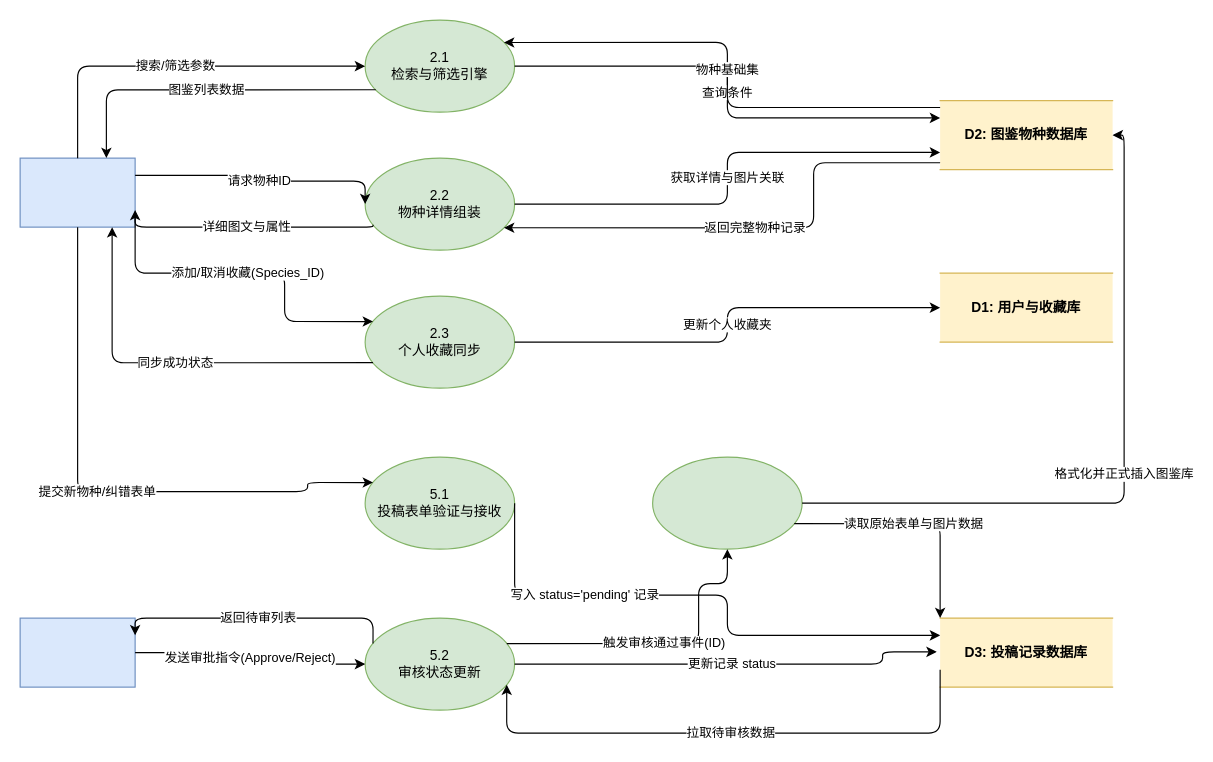
The diagram is 1213 pixels wide and 762 high, and some of its shapes have lost their labels. The shapes that lost their labels are listed below. From the top down, each one's centre as x and y in pixels, then its label:
At (77,192): "普通用户".
At (726,502): "5.3 审核通过数据迁移".
At (77,652): "管理员/编辑".
